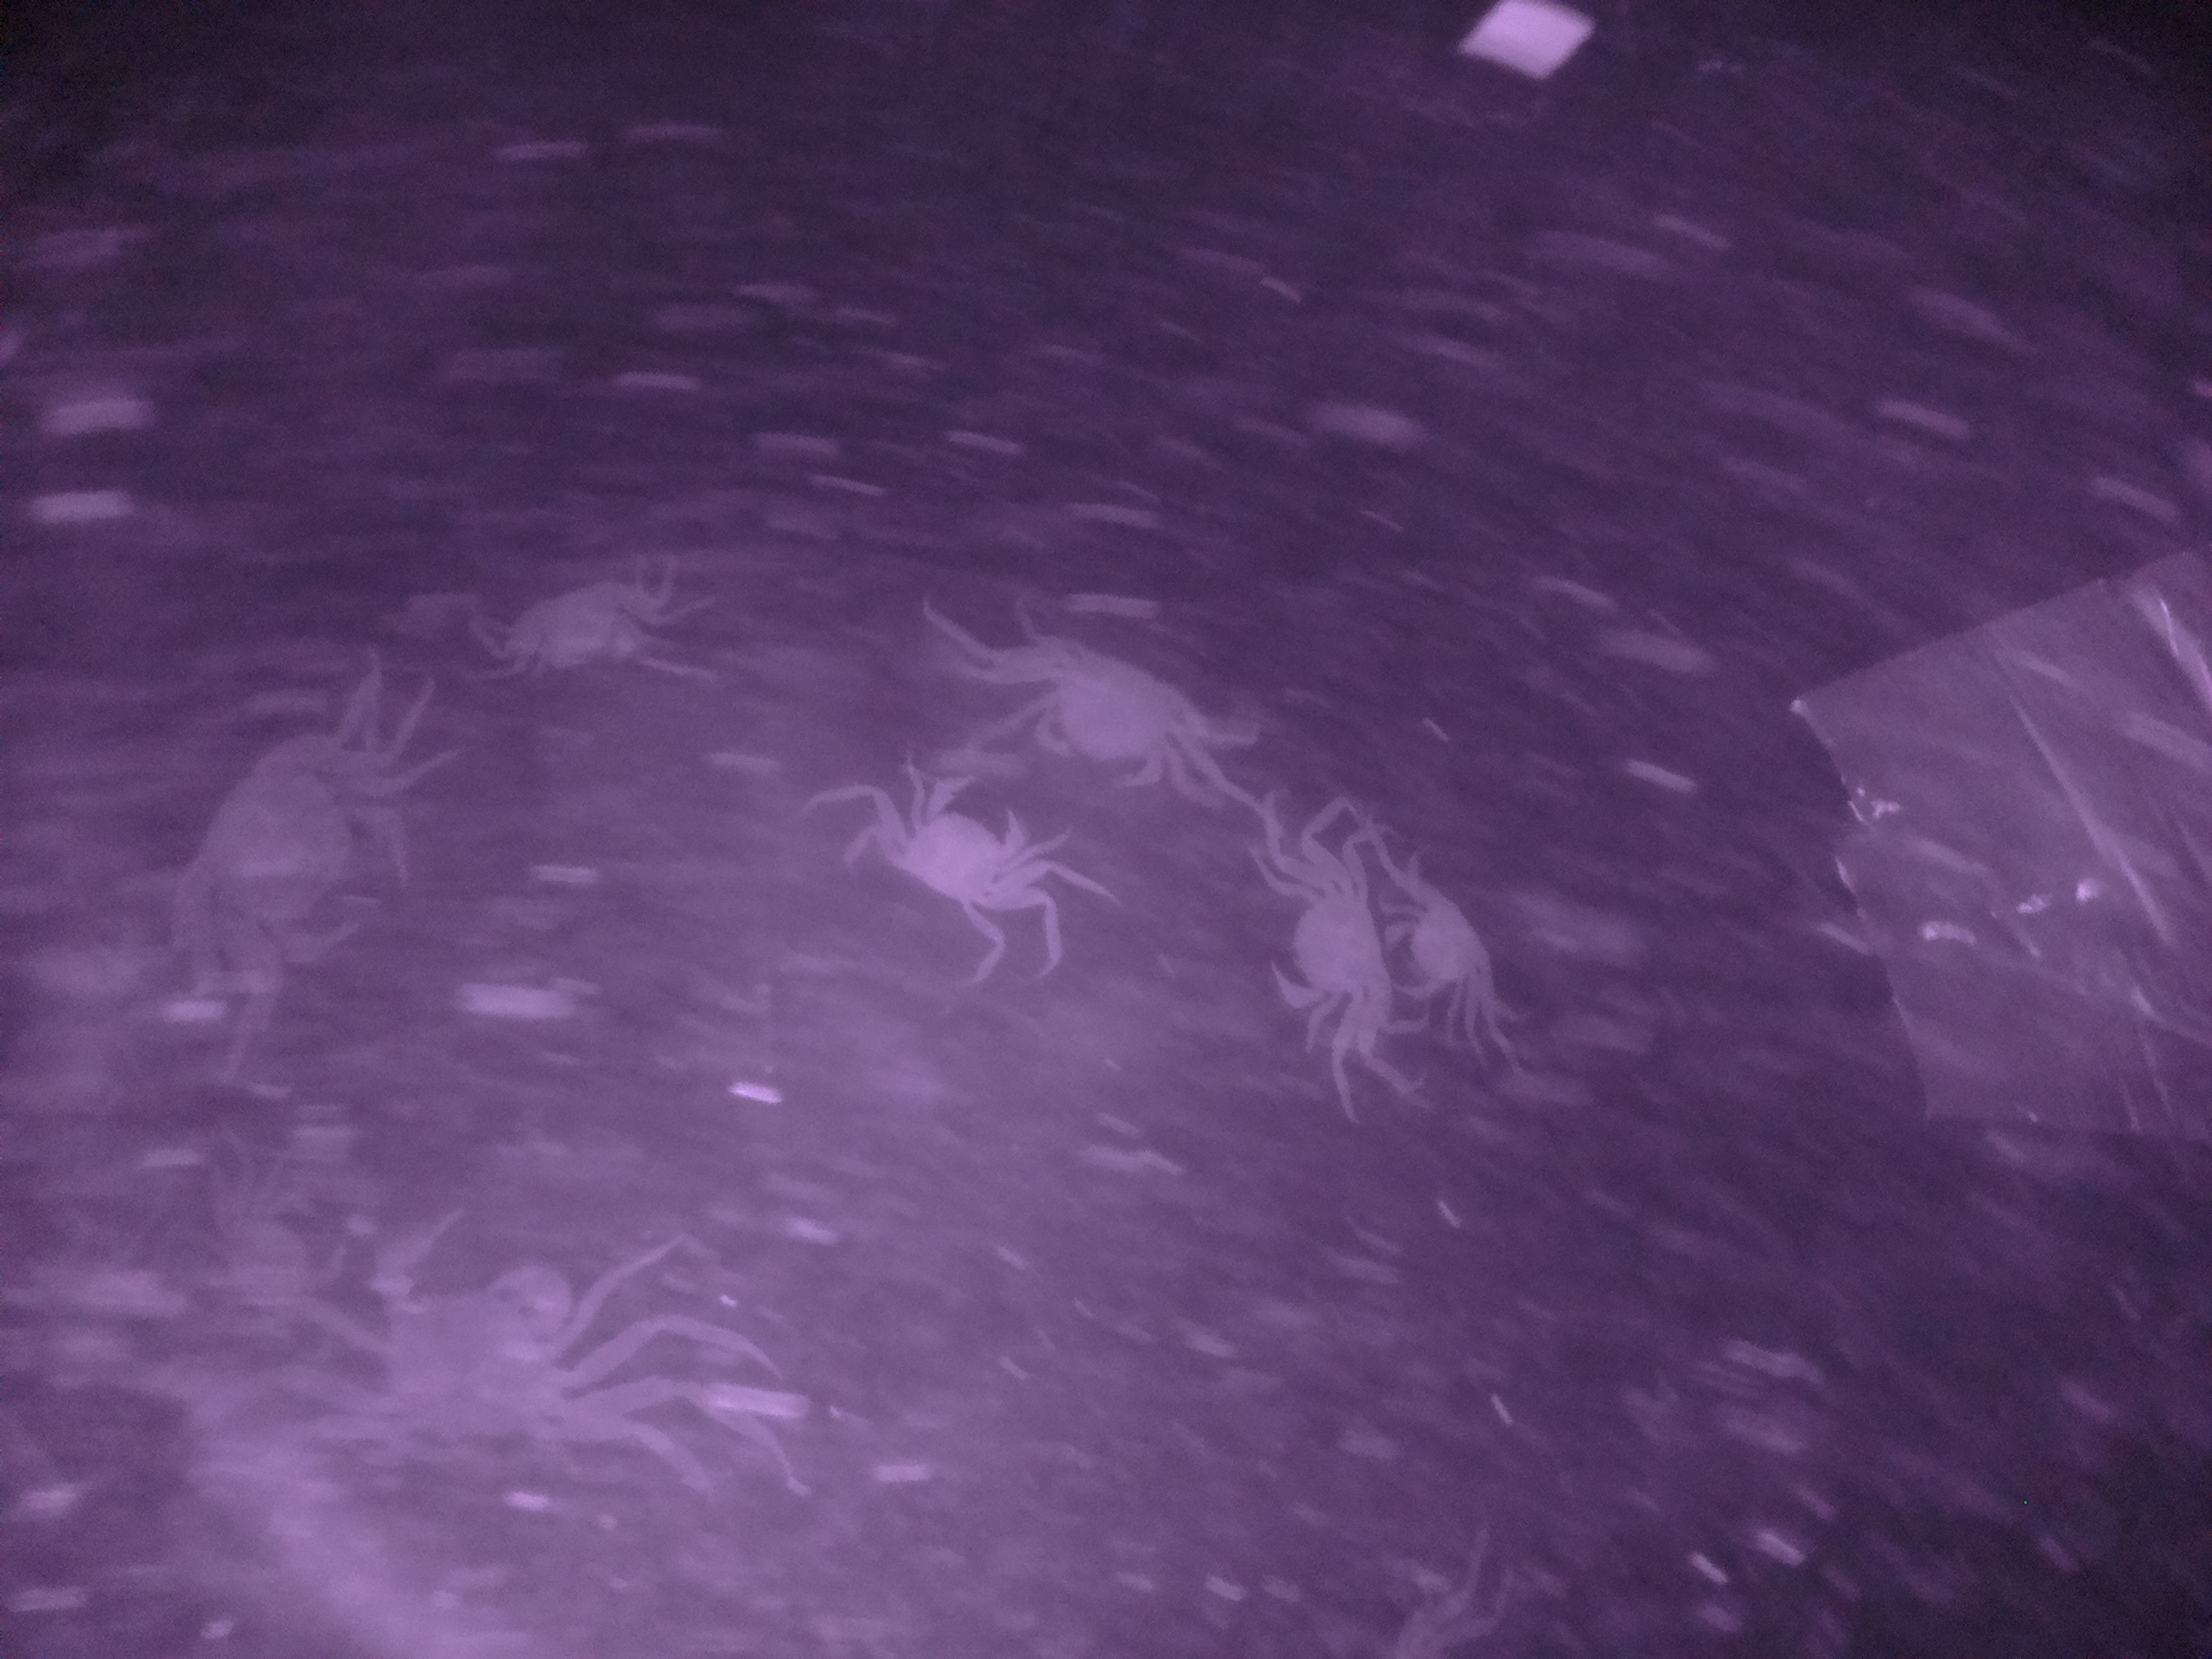Crab: (850, 742, 1062, 925), (1007, 619, 1205, 814), (475, 565, 697, 692), (1249, 857, 1395, 1046), (1392, 864, 1496, 1044)
